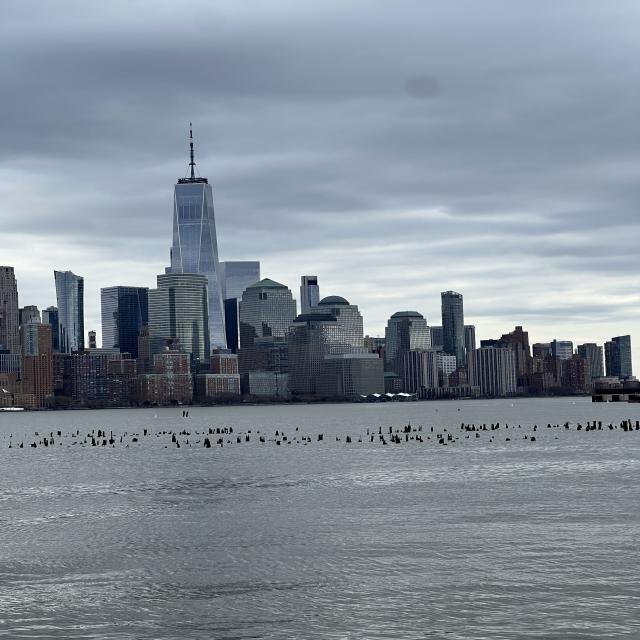WTC: (171, 120, 220, 275)
